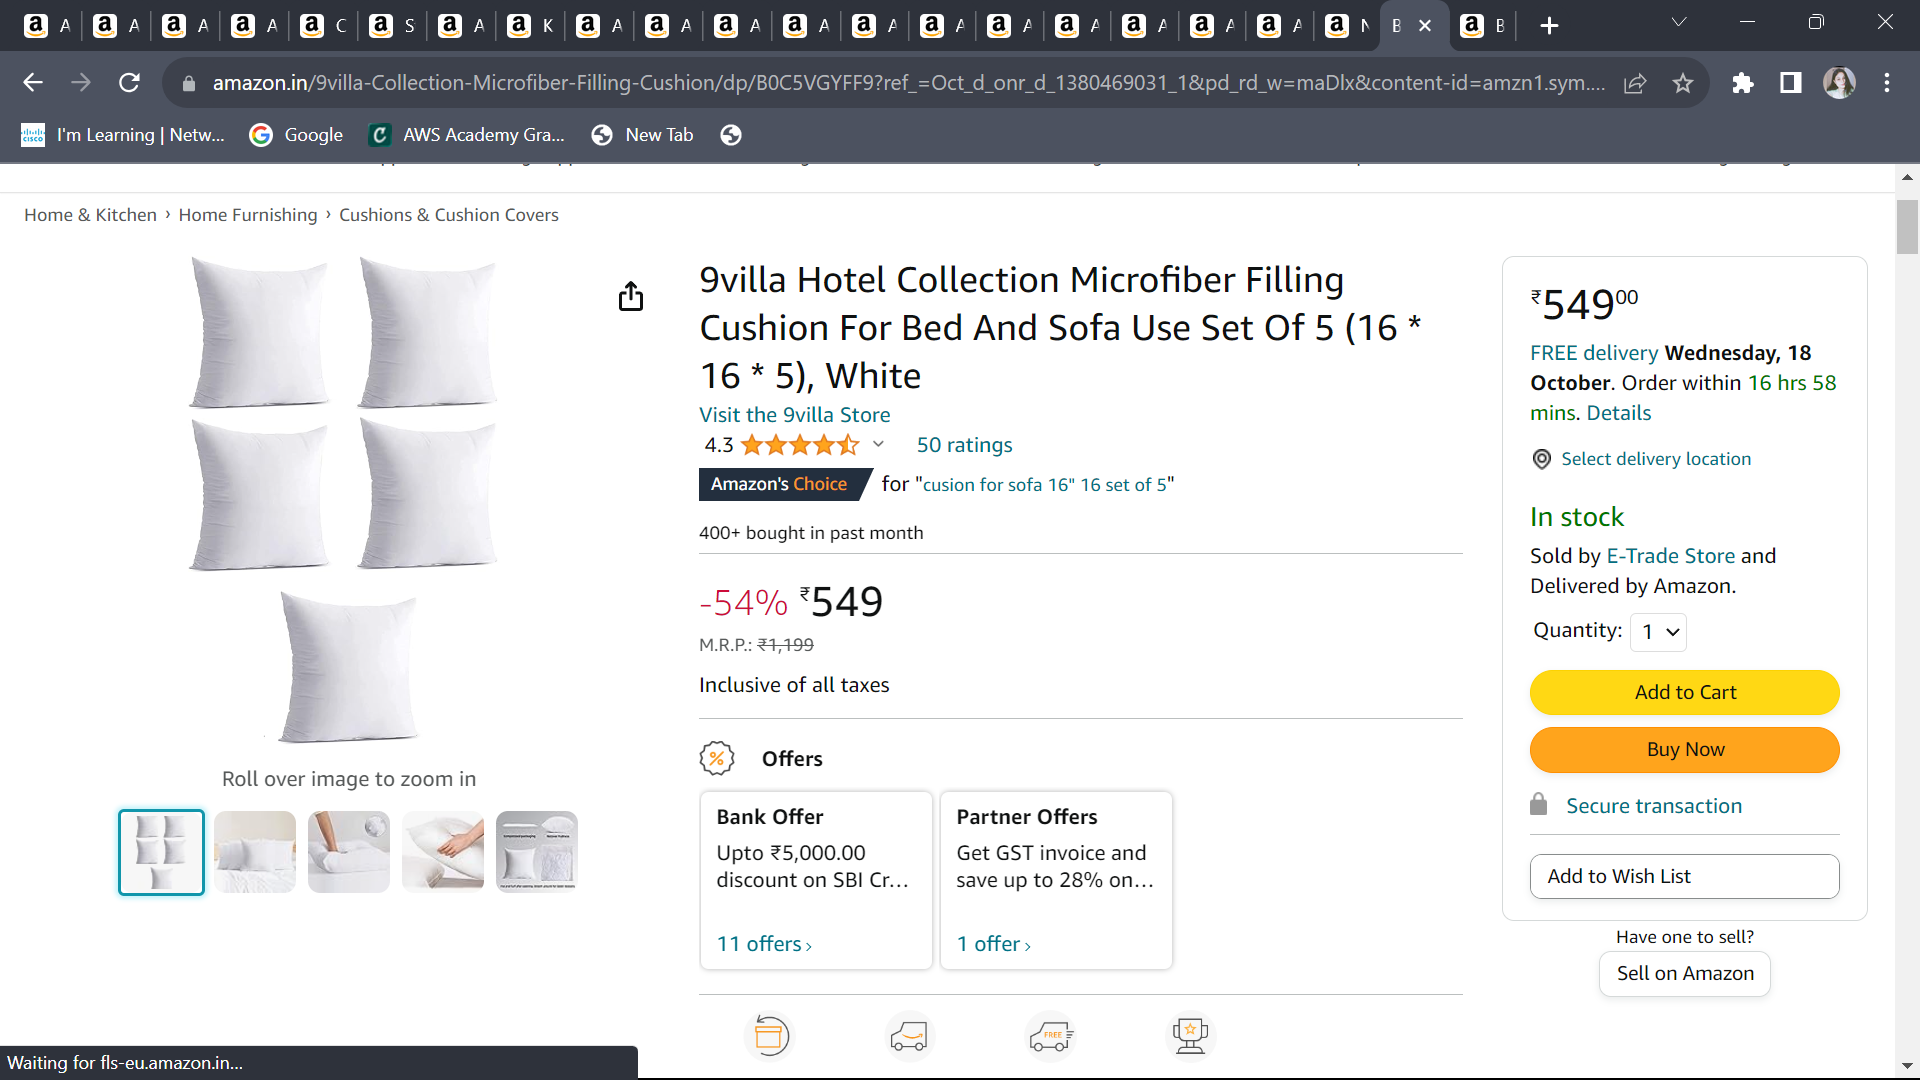Image: (113, 239, 576, 758)
Paragraph: (678, 725, 1200, 968), (678, 257, 1448, 394), (1505, 800, 1902, 1039), (1502, 501, 1842, 669), (1493, 671, 1887, 789), (1505, 331, 1873, 436), (684, 400, 1036, 465), (666, 469, 1191, 513), (669, 576, 982, 640), (1502, 425, 1828, 481), (678, 633, 931, 699), (1514, 269, 1687, 349), (678, 520, 940, 562), (1398, 737, 1565, 756)
